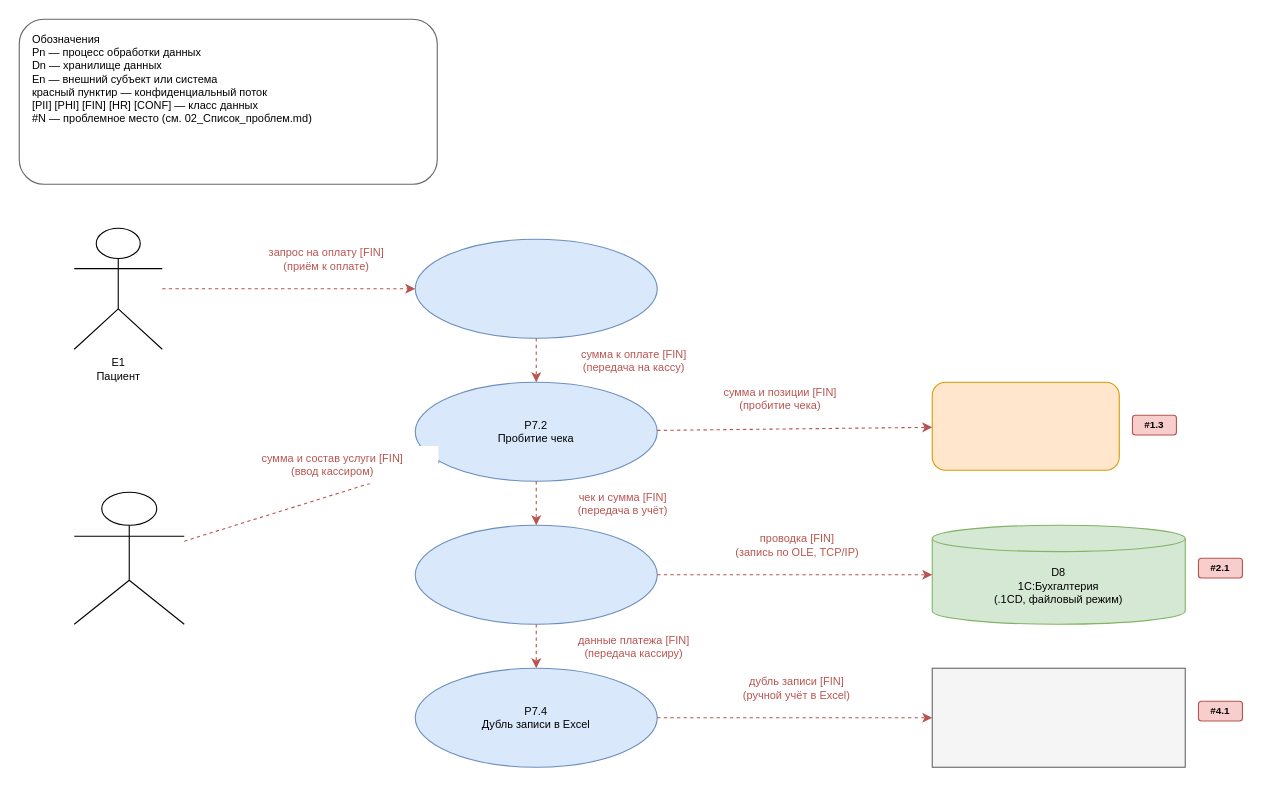
Image size: 1262x787. Some labels were removed from this diagram. The shapes that lost their labels are listed below. From the top down, each one's centre as x and y in pixels, then its label:
point (535, 288): P7.1 Расчёт суммы
point (1025, 425): E9 ККМ
point (128, 557): E4 Кассир
point (535, 574): P7.3 Проводка в 1С
point (1058, 717): D11 Excel кассира (дубль учёта)
